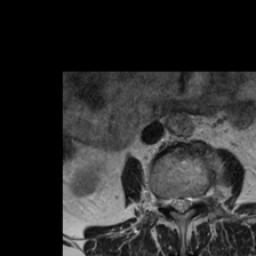CCS_stenosis: (178, 190, 184, 220)
LFS_normal: (192, 185, 202, 209)
LLS_normal: (184, 190, 192, 215)
RFS_normal: (160, 189, 168, 213)
RLS_normal: (168, 190, 178, 214)
